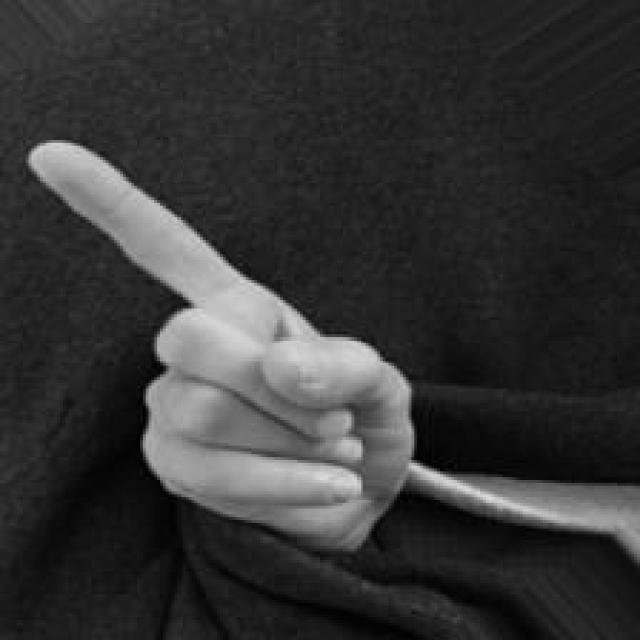I: (20, 129, 421, 565)
